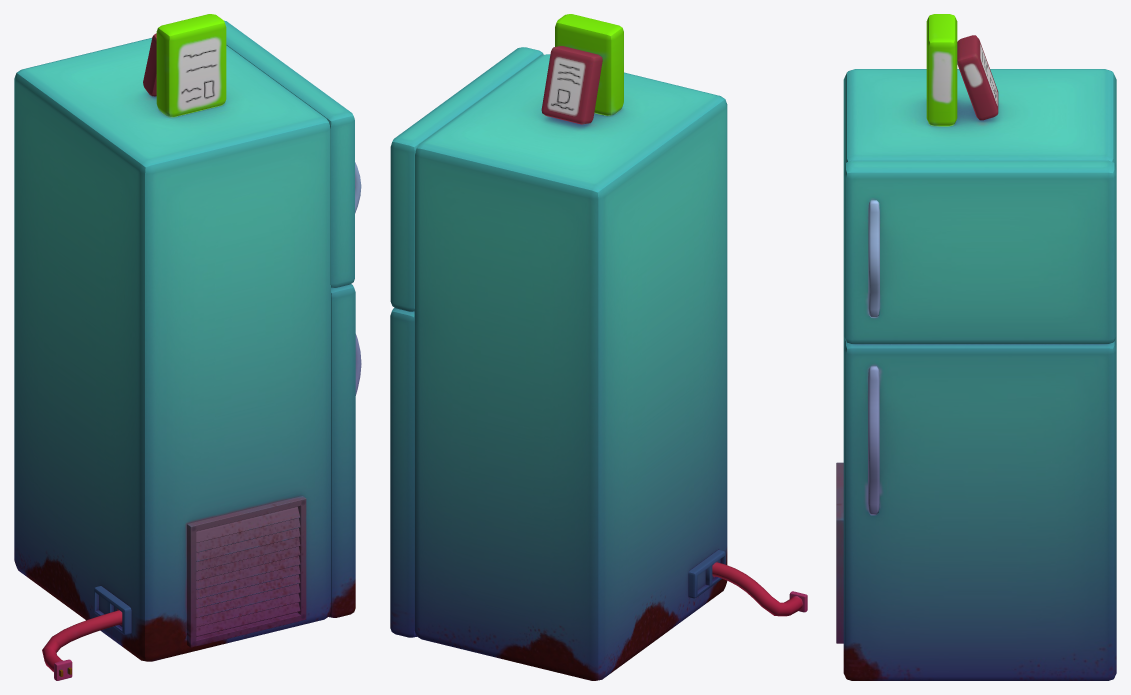
Rendered from electronic8.glb.
3 views of the same model, side by side, from view 1: azimuth 30°, elevation 25°; view 2: azimuth 150°, elevation 25°; view 3: azimuth 270°, elevation 25° (orthographic). The views are drawn at different scales.
Parts seen in each view (by area): view 1: sweep2; view 2: sweep2; view 3: sweep2.
Part boxes in pixels (x1=…): sweep2: x1=14, y1=14, x2=361, y2=680; sweep2: x1=390, y1=14, x2=807, y2=680; sweep2: x1=836, y1=14, x2=1116, y2=680.
Bounding box in the file's own units: 1.03 × 1.84 × 0.78.
1 material, 1 textured.
